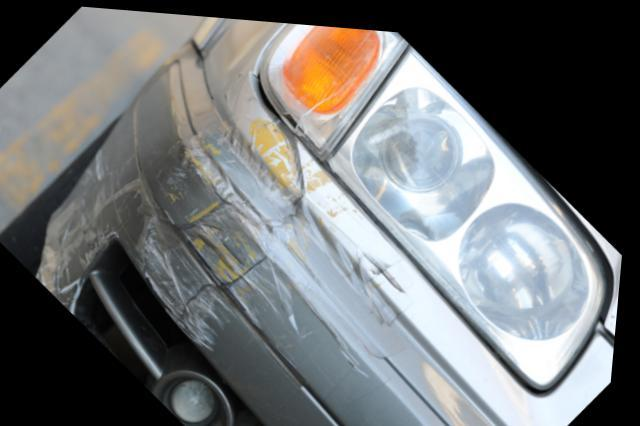lamp broken: (258, 18, 409, 157)
scratch: (40, 110, 333, 345)
